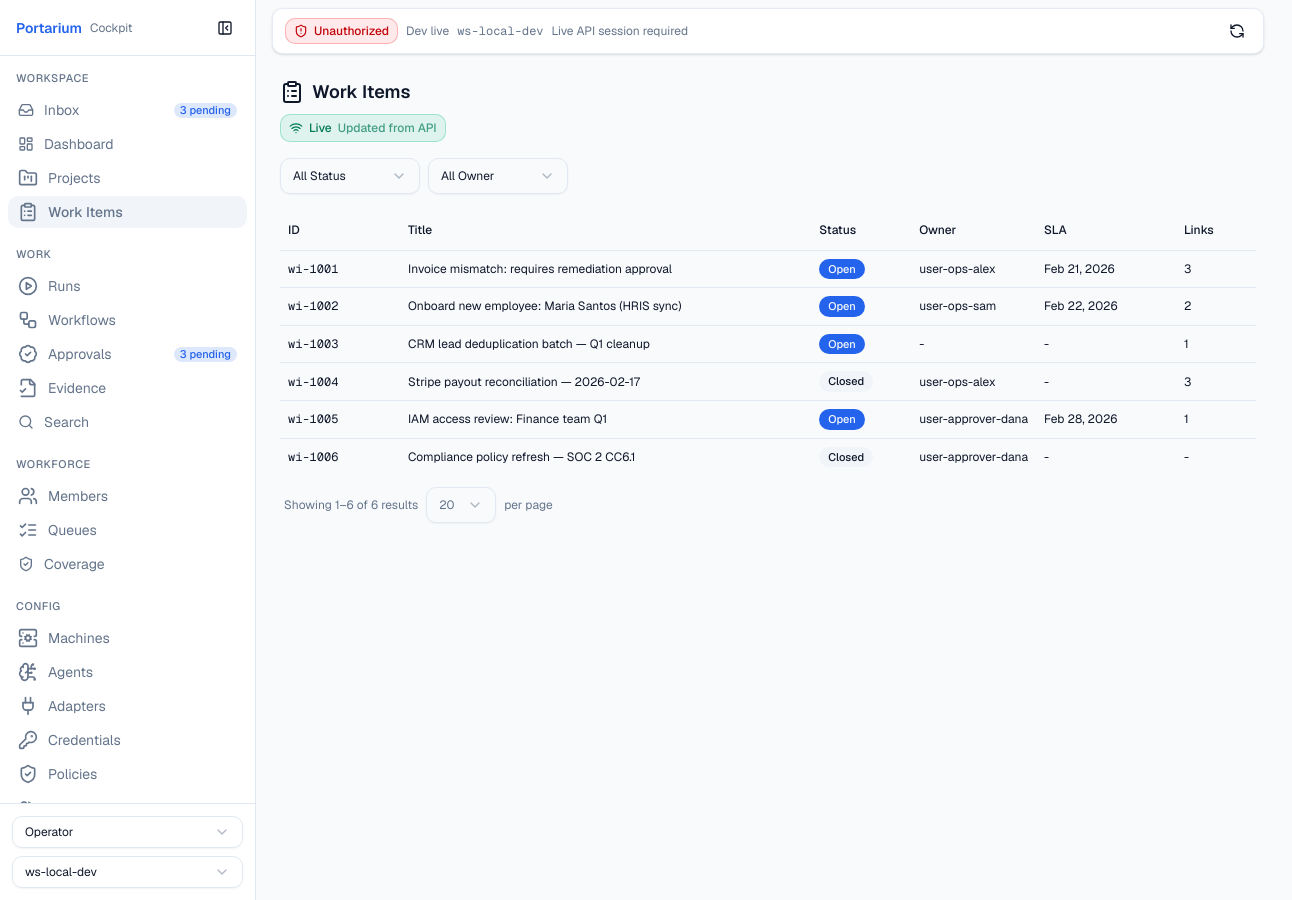
it: Work Items hub › navigates to work item detail when a row is clicked
This screenshot has width=1292, height=900.
Step 1. Click the text "Invoice mismatch: requires remediation approval" → (606, 269), box left=400, top=250, right=811, bottom=288
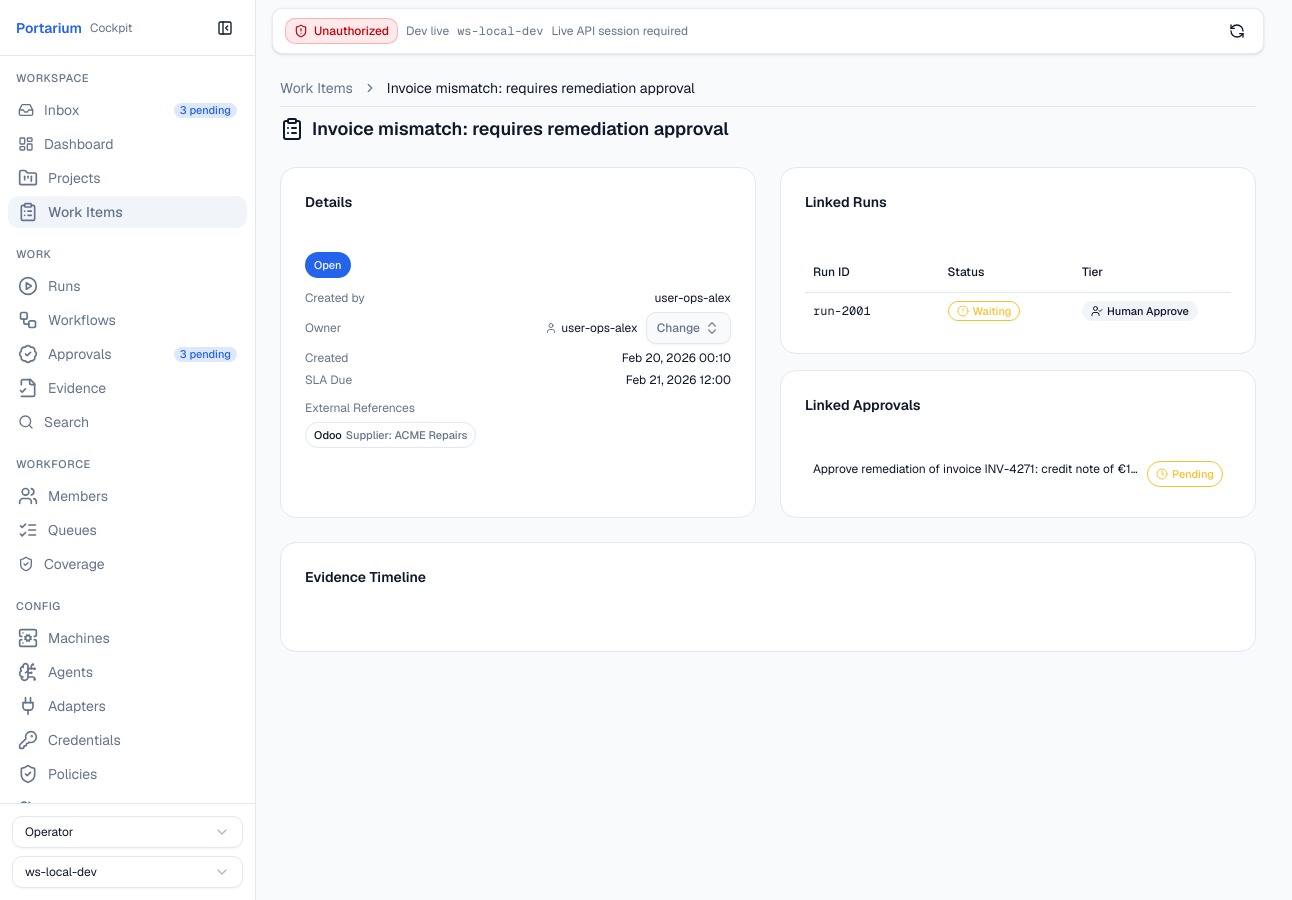
expect the heading "Invoice mismatch: requires remediation approval" is shown: met, box left=280, top=115, right=729, bottom=143
